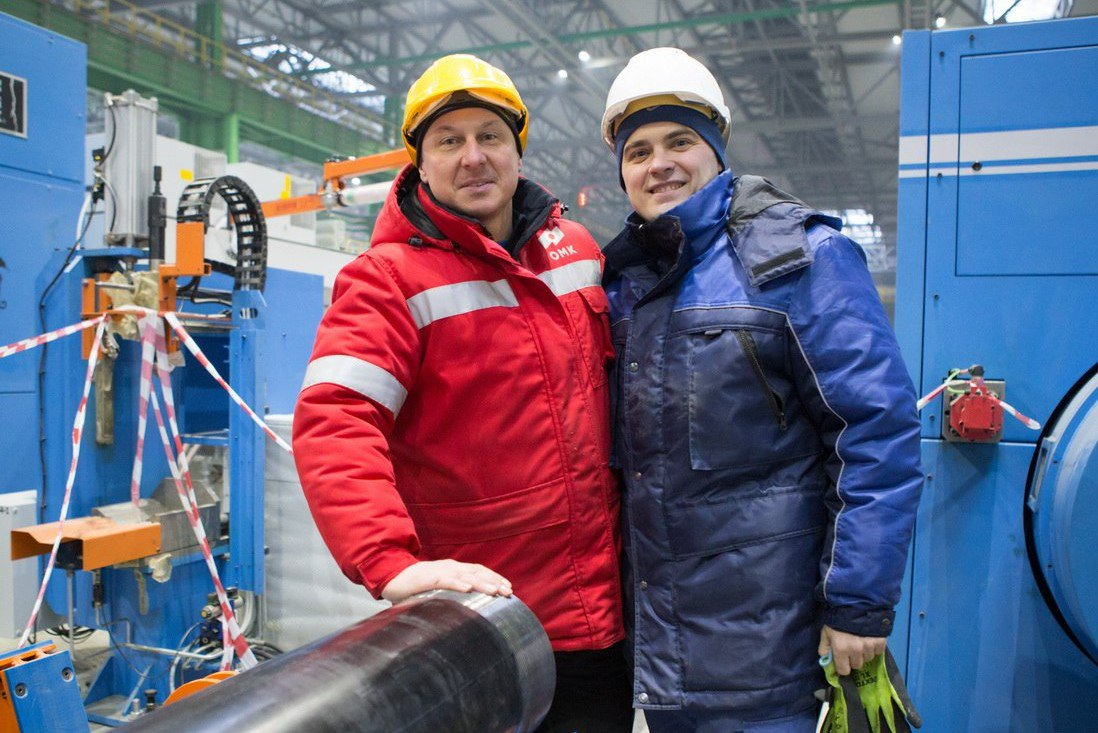person: (293, 52, 621, 733), (601, 47, 926, 732)
